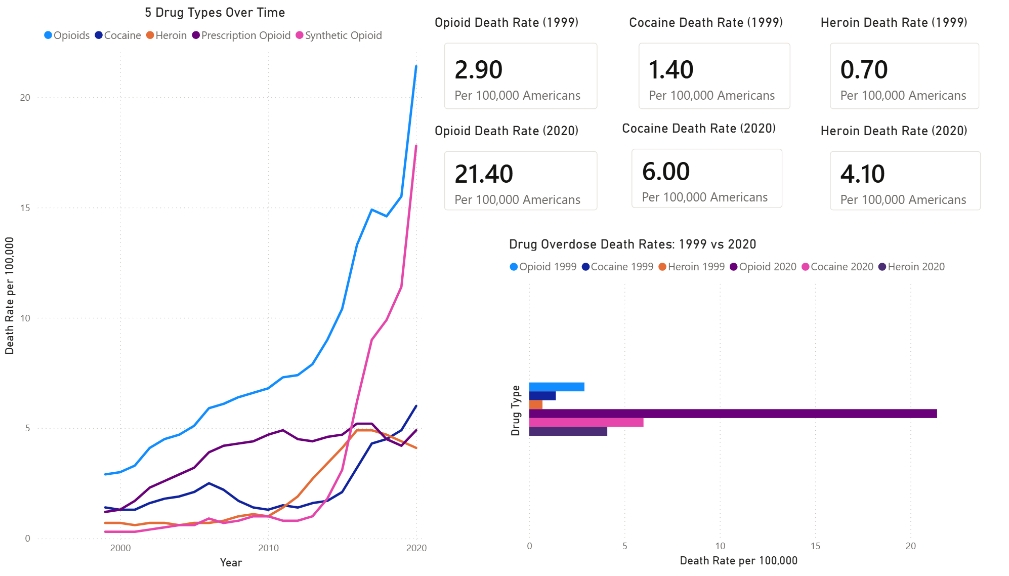

Layout of this report page (visuals, bound fields, positions):
{"tool":"powerbi","page":{"name":"Page 1","canvas":[1280,720],"ordinal":0},"visuals":[{"type":"lineChart","title":"5 Drug Types Over Time","fields":{"Category":["drug.Year"],"Y":["Sum(drug.Any Opioid)","Sum(drug.Cocaine)","Sum(drug.Heroin)","Sum(drug.Prescription Opioid)","Sum(drug.Synthetic Opioid)"]},"box":[0,0,545.6,719.6],"z":0},{"type":"cardVisual","title":"Opioid Death Rate (2020)","fields":{"Data":["drug.Any Opioid 2020"]},"box":[545.6,150.1,228.5,128.5],"z":1000},{"type":"cardVisual","title":"Cocaine Death Rate (2020)","fields":{"Data":["drug.Cocaine 2020"]},"box":[783.2,146.6,225.1,128.5],"z":2000},{"type":"cardVisual","title":"Heroin Death Rate (2020)","fields":{"Data":["drug.Heroin 2020"]},"box":[1034.5,150.1,225.1,128.5],"z":3000},{"type":"cardVisual","title":"Opioid Death Rate (1999)","fields":{"Data":["drug.Opioid 1999"]},"box":[545.6,12.5,228.5,137.5],"z":4000},{"type":"cardVisual","title":"Cocaine Death Rate (1999)","fields":{"Data":["drug.Cocaine 1999"]},"box":[792.3,12.5,226.2,137.5],"z":5000},{"type":"cardVisual","title":"Heroin Death Rate (1999)","fields":{"Data":["drug.Heroin 1999"]},"box":[1034.5,12.5,223.9,137.5],"z":6000},{"type":"clusteredBarChart","title":"Drug Overdose Death Rates: 1999 vs 2020","fields":{"Y":["drug.Opioid 1999","drug.Cocaine 1999","drug.Heroin 1999","drug.Any Opioid 2020","drug.Cocaine 2020","drug.Heroin 2020"]},"box":[639.7,293.2,573,424.2],"z":7000}]}

Visuals, with their boxes in screenshot pixels (x1, y1, x2, y2), scaled from the page's 1280x720 canvas onto the 1009x576 screenshot:
"5 Drug Types Over Time" lineChart: select_region(0, 0, 430, 575)
"Opioid Death Rate (2020)" cardVisual: select_region(430, 120, 610, 223)
"Cocaine Death Rate (2020)" cardVisual: select_region(617, 117, 795, 220)
"Heroin Death Rate (2020)" cardVisual: select_region(815, 120, 993, 223)
"Opioid Death Rate (1999)" cardVisual: select_region(430, 10, 610, 120)
"Cocaine Death Rate (1999)" cardVisual: select_region(625, 10, 803, 120)
"Heroin Death Rate (1999)" cardVisual: select_region(815, 10, 992, 120)
"Drug Overdose Death Rates: 1999 vs 2020" clusteredBarChart: select_region(504, 235, 956, 574)
